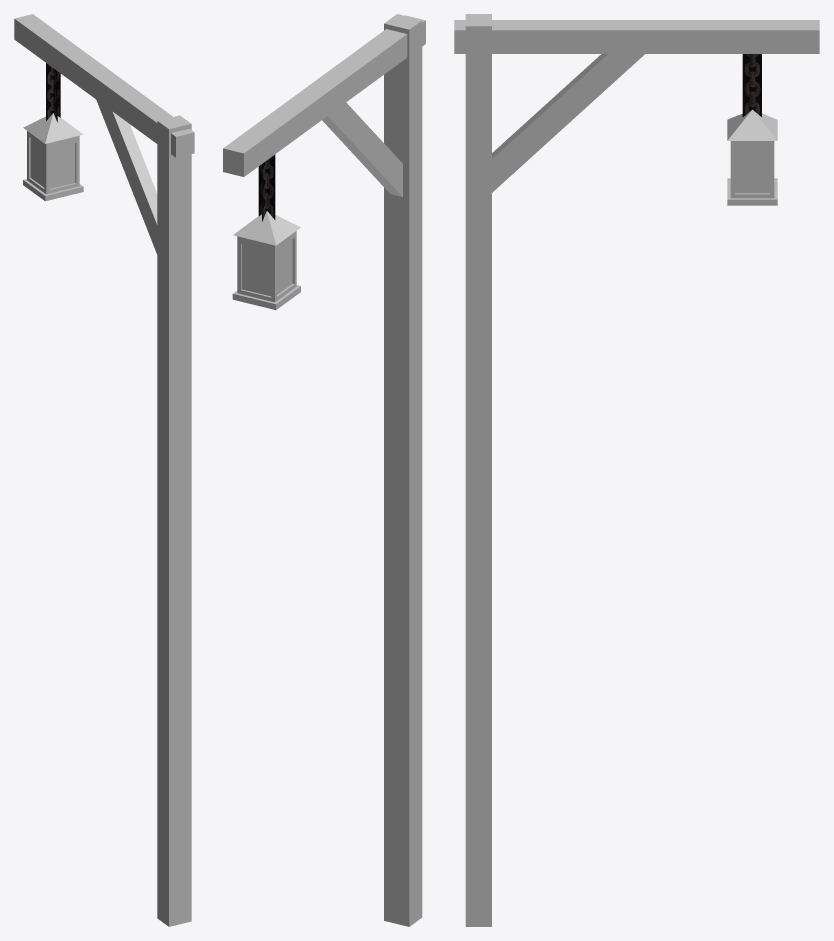
File: Lantern1.fbx
The picture shows the model from 3 angles, left to right: view 1: azimuth 30°, elevation 25°; view 2: azimuth 150°, elevation 25°; view 3: azimuth 270°, elevation 25°; orthographic projection. The views are drawn at different scales.
Parts seen in each view (by area): view 1: polySurface63; view 2: polySurface63; view 3: polySurface63.
Boxes of the visible parts, <box> form: polySurface63: <box>14,14,194,926</box>; polySurface63: <box>223,14,425,926</box>; polySurface63: <box>454,14,819,926</box>.
Size of the model in its own units: 0.9694 by 19.18 by 7.05.
